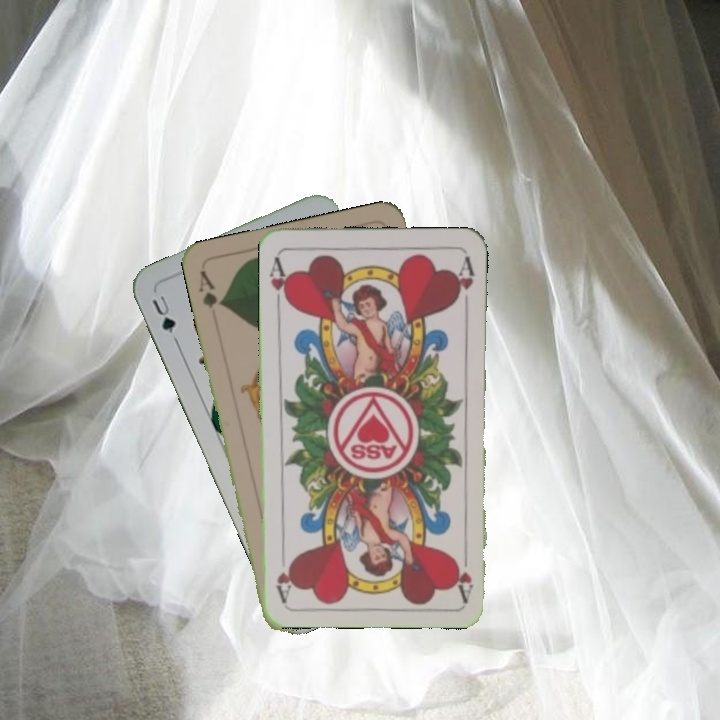GA: (194, 266, 226, 311)
GU: (147, 289, 181, 345)
HA: (266, 253, 293, 311), (451, 543, 476, 602)
